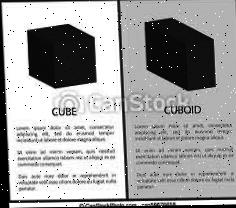cube: (26, 25, 98, 88)
